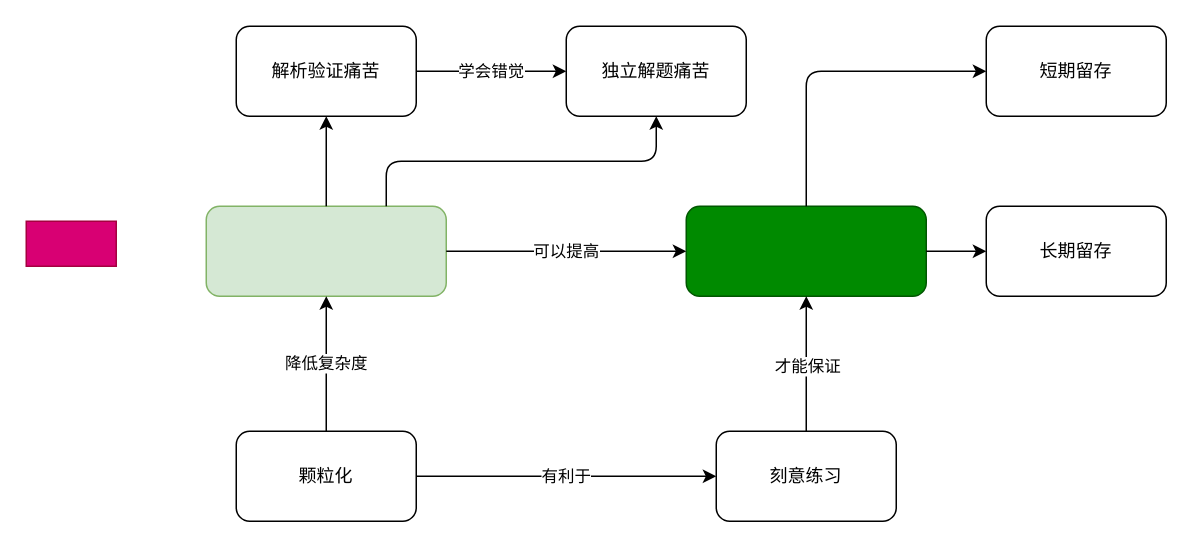
Some shapes in this 1193 by 548 pixel diagram are drawn without their labels. Each missing label, with the box of its shape:
低痛苦值，高娱乐性 Low Pain: (205, 205, 446, 296)
教学目的: (25, 220, 116, 266)
高留存率，高流畅度 High Fluency: (685, 205, 926, 296)
